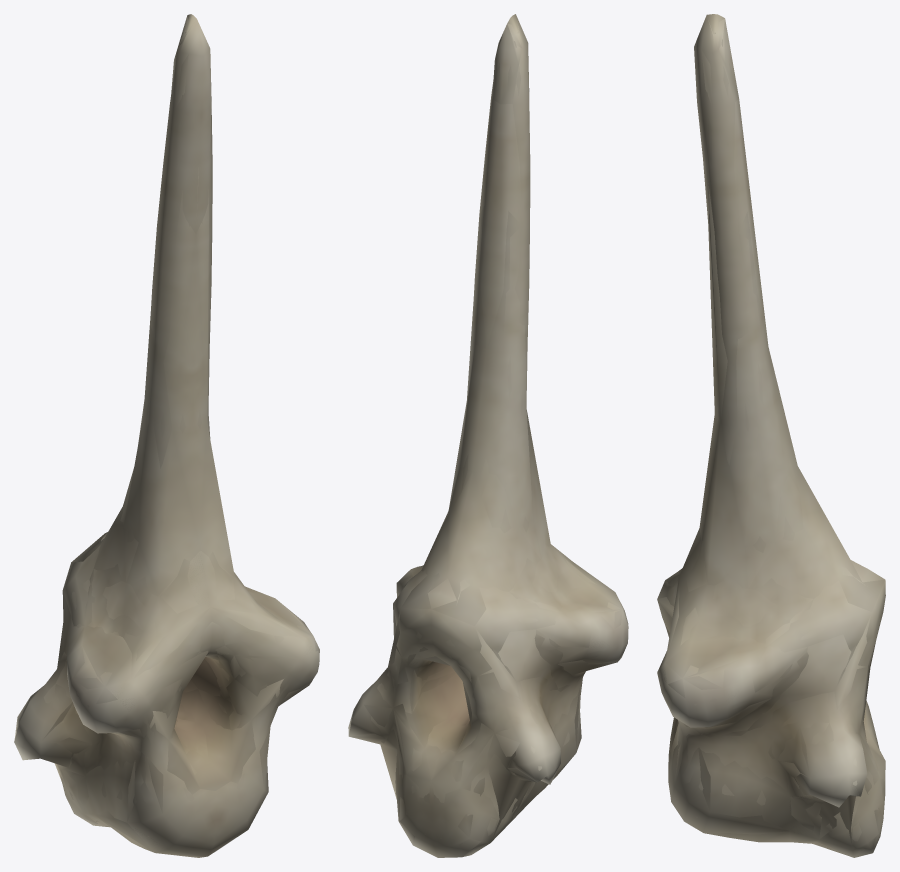
File: vertebrae thoracicae 01.fbx
3 views of the same model, side by side, from view 1: azimuth 30°, elevation 25°; view 2: azimuth 150°, elevation 25°; view 3: azimuth 270°, elevation 25° (orthographic). The views are drawn at different scales.
Parts seen in each view (by area): view 1: vertebrae thoracicae 01, vertebrae thoracicae 01 low, vertebrae thoracicae 01 high; view 2: vertebrae thoracicae 01 low, vertebrae thoracicae 01, vertebrae thoracicae 01 high; view 3: vertebrae thoracicae 01, vertebrae thoracicae 01 low, vertebrae thoracicae 01 high.
Part boxes in pixels (bbox=[...]): vertebrae thoracicae 01: bbox=[14, 14, 319, 857]; vertebrae thoracicae 01 low: bbox=[41, 16, 319, 857]; vertebrae thoracicae 01 high: bbox=[16, 32, 291, 837]; vertebrae thoracicae 01 low: bbox=[349, 21, 627, 856]; vertebrae thoracicae 01: bbox=[348, 14, 628, 857]; vertebrae thoracicae 01 high: bbox=[350, 32, 625, 850]; vertebrae thoracicae 01: bbox=[657, 14, 885, 857]; vertebrae thoracicae 01 low: bbox=[657, 18, 885, 856]; vertebrae thoracicae 01 high: bbox=[666, 32, 884, 852].
Bounding box in the file's own units: 1.04 × 3.68 × 0.9077.
Materials: 1 (1 with a texture image).
